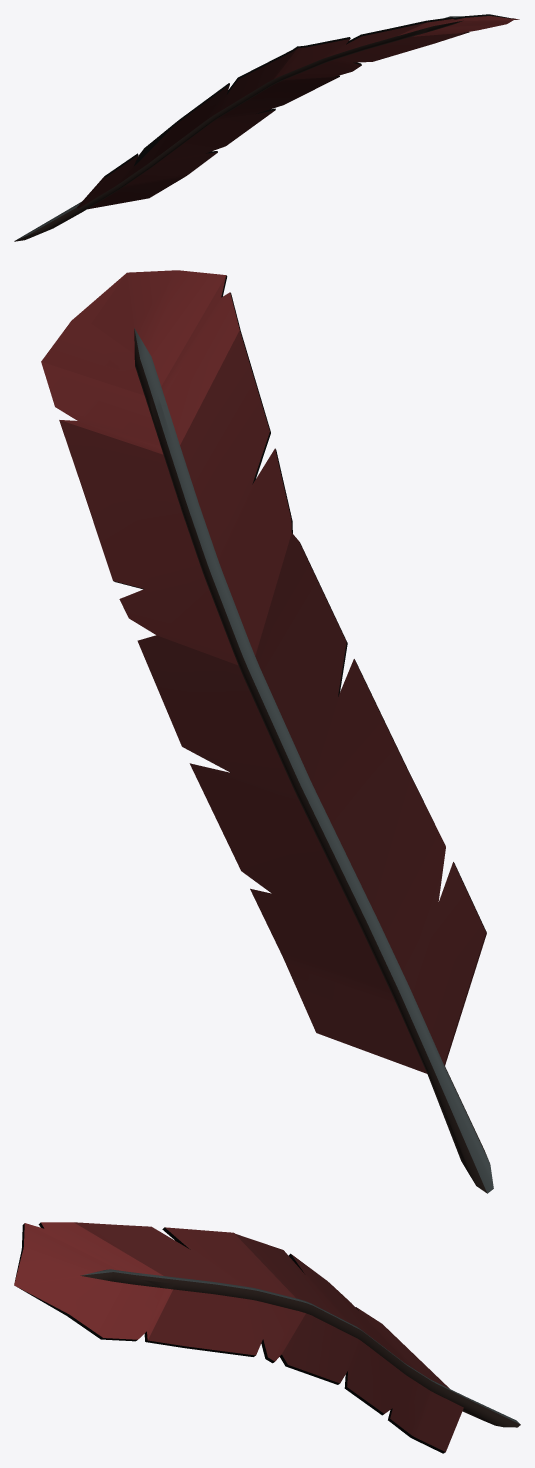
File: feather.fbx
3 views of the same model, one above another, from view 1: azimuth 30°, elevation 25°; view 2: azimuth 150°, elevation 25°; view 3: azimuth 270°, elevation 25° (orthographic). The views are drawn at different scales.
Parts seen in each view (by area): view 1: feather; view 2: feather; view 3: feather.
Boxes of the visible parts, bbox=[...] form: feather: bbox=[14, 14, 519, 241]; feather: bbox=[41, 270, 493, 1193]; feather: bbox=[14, 1222, 520, 1453].
Size of the model in its own units: 0.2066 by 0.1492 by 0.1625.
